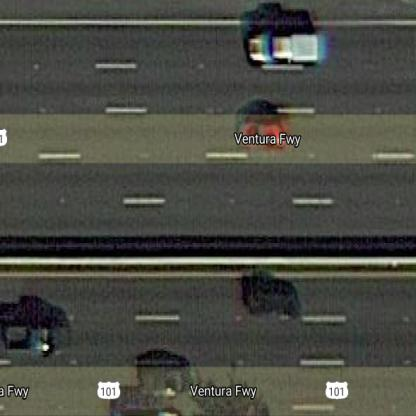car: (237, 26, 327, 76), (233, 276, 306, 320), (230, 113, 305, 155), (10, 311, 62, 360)
